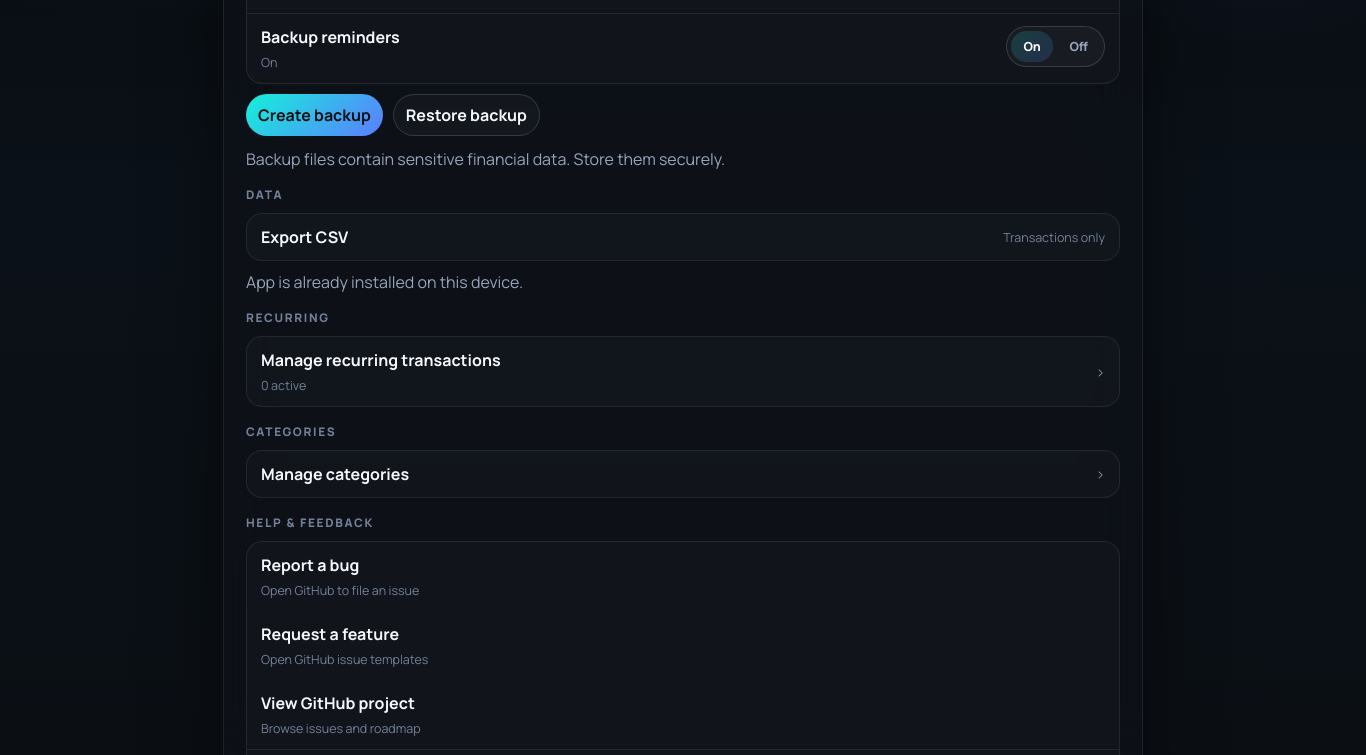
it: SettingsScreen direct flows › shows empty recurring state when there are no active recurring templates
(page scrolled)
What coordinates should you click on to do the following:
click the button "Manage recurring transactions 0 active >"
I would click on:
 (381, 360)
Its box is [247, 337, 1119, 406].
(page scrolled)
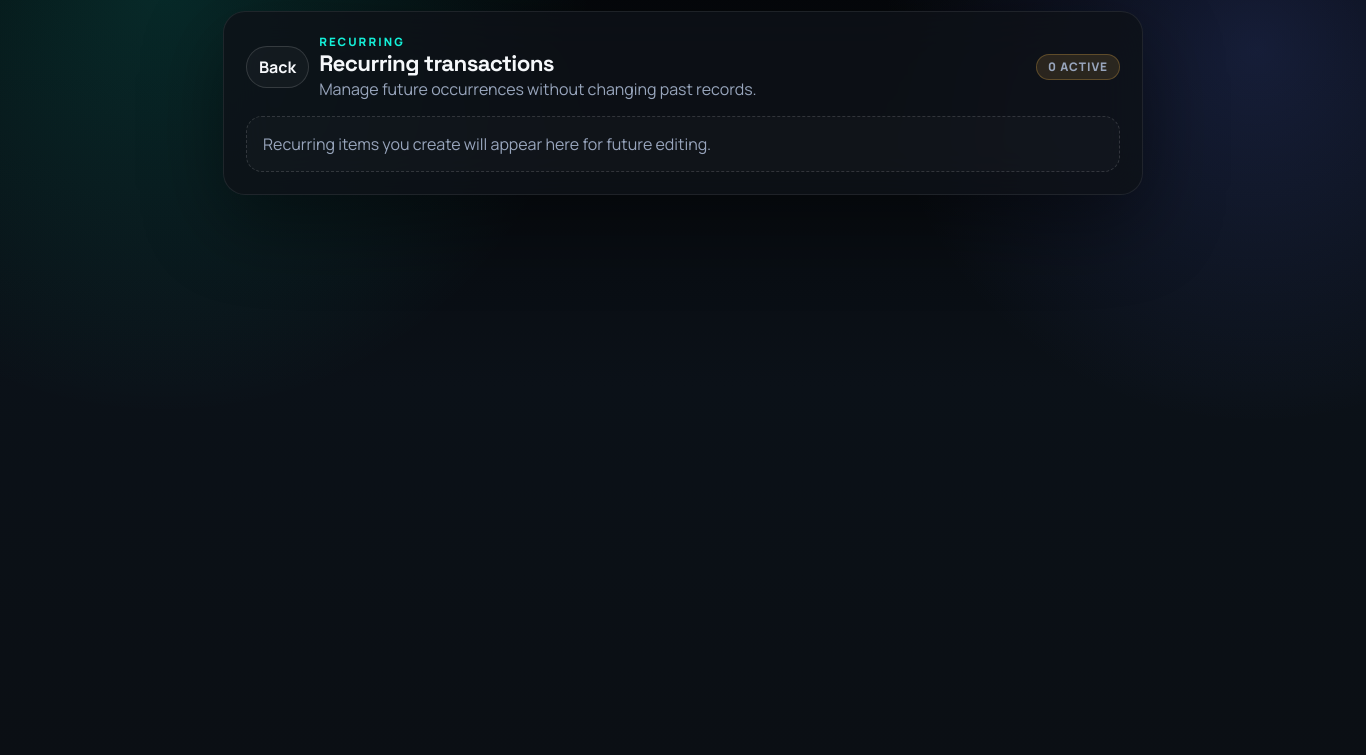
Check: the text "Recurring items you create will appear here for future editing." is shown, box [246, 116, 1120, 172]
